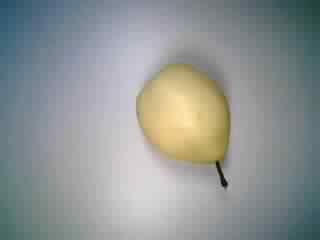pear: (129, 53, 234, 192)
